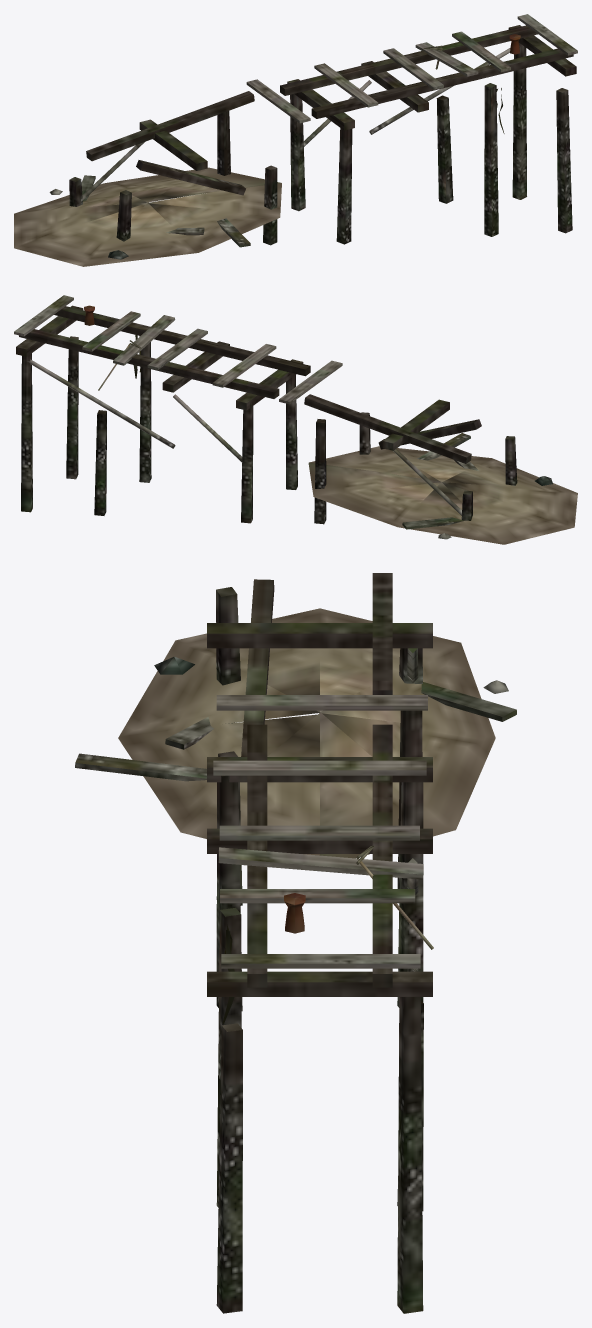
File: kit_wrecked_jetty_far.glb
The picture shows the model from 3 angles, top to bottom: view 1: azimuth 30°, elevation 25°; view 2: azimuth 150°, elevation 25°; view 3: azimuth 270°, elevation 25°; orthographic projection. The views are drawn at different scales.
Visible parts, largest first — view 1: body, plank_01, plank_02, plank_03, plank_06, plank_05, plank_04, plank_09; view 2: body, plank_04, plank_01, plank_02, plank_03, plank_06, plank_05, plank_08, plank_09; view 3: body, plank_02, plank_01, plank_04, plank_03, plank_06, plank_05, plank_09, plank_08.
Part boxes in pixels (x1,y1,x2,y2): body: (14, 25, 576, 266); plank_01: (246, 79, 310, 123); plank_02: (314, 63, 378, 107); plank_03: (383, 48, 443, 89); plank_06: (517, 14, 577, 55); plank_05: (452, 31, 510, 72); plank_04: (415, 42, 478, 76); plank_09: (217, 218, 250, 247); body: (16, 305, 577, 544); plank_04: (113, 315, 175, 365); plank_01: (279, 360, 342, 404); plank_02: (212, 344, 276, 387); plank_03: (147, 328, 207, 369); plank_06: (14, 295, 73, 336); plank_05: (82, 311, 140, 351); plank_08: (402, 517, 463, 529); plank_09: (417, 433, 470, 460); body: (118, 573, 508, 1313); plank_02: (213, 760, 426, 775); plank_01: (216, 695, 427, 710); plank_04: (218, 847, 423, 879); plank_03: (219, 825, 419, 840); plank_06: (221, 954, 420, 968); plank_05: (220, 889, 415, 903); plank_09: (75, 753, 206, 781); plank_08: (421, 682, 516, 721).
Size of what is drawn, in the model's own units: 9.9 by 3.32 by 3.52.
Materials: 2 (2 with a texture image).
